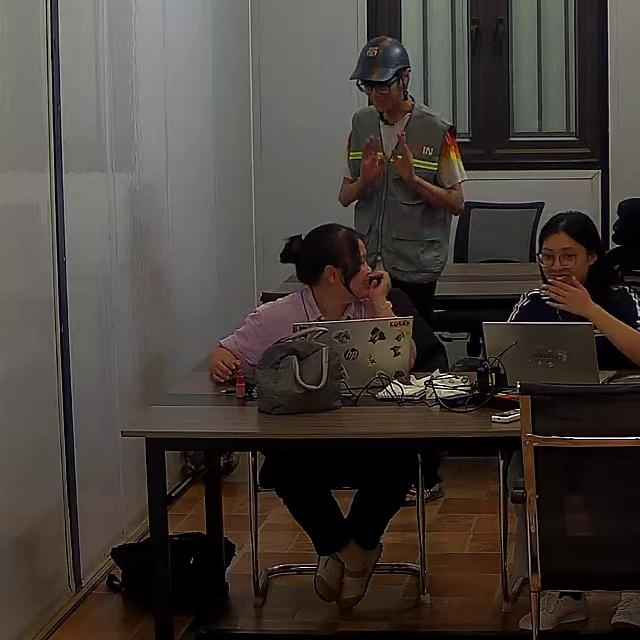helmet: (349, 34, 412, 83)
no_helmet: (536, 211, 617, 298), (288, 224, 365, 294)
none: (218, 286, 372, 375), (506, 282, 639, 373)
vest: (344, 104, 464, 280)
